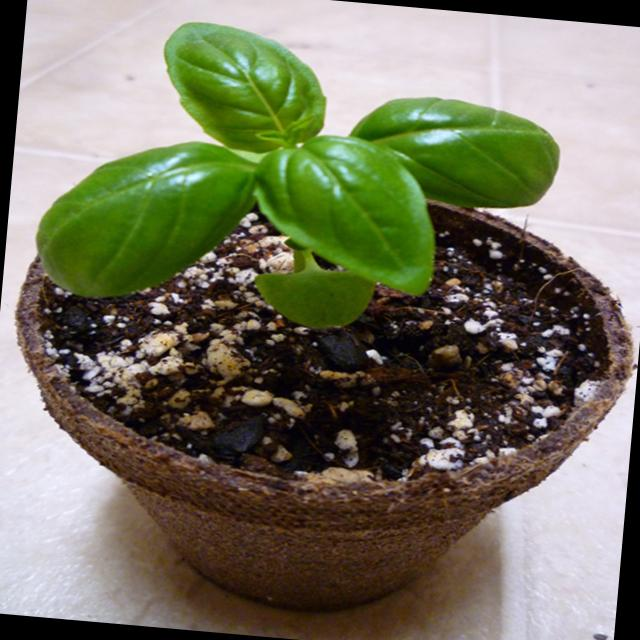Sweet Basil: (22, 4, 580, 400)
